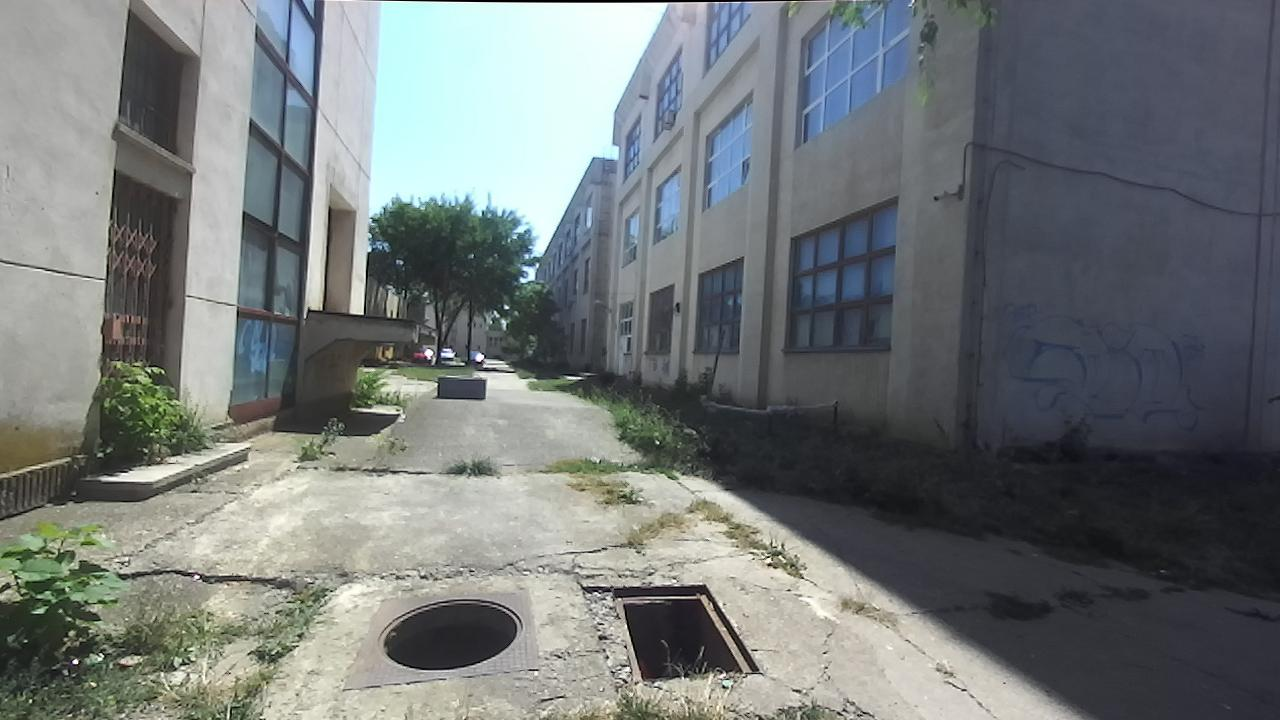drain: (608, 579, 768, 682), (371, 595, 527, 673)
